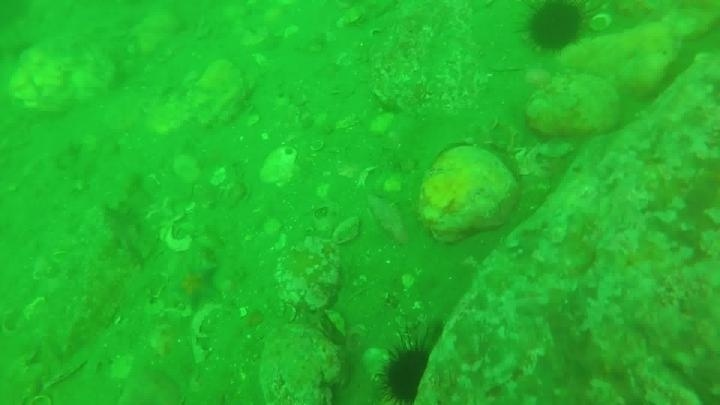echinus: (376, 339, 437, 404), (520, 1, 590, 55)
starfish: (165, 260, 223, 313)
